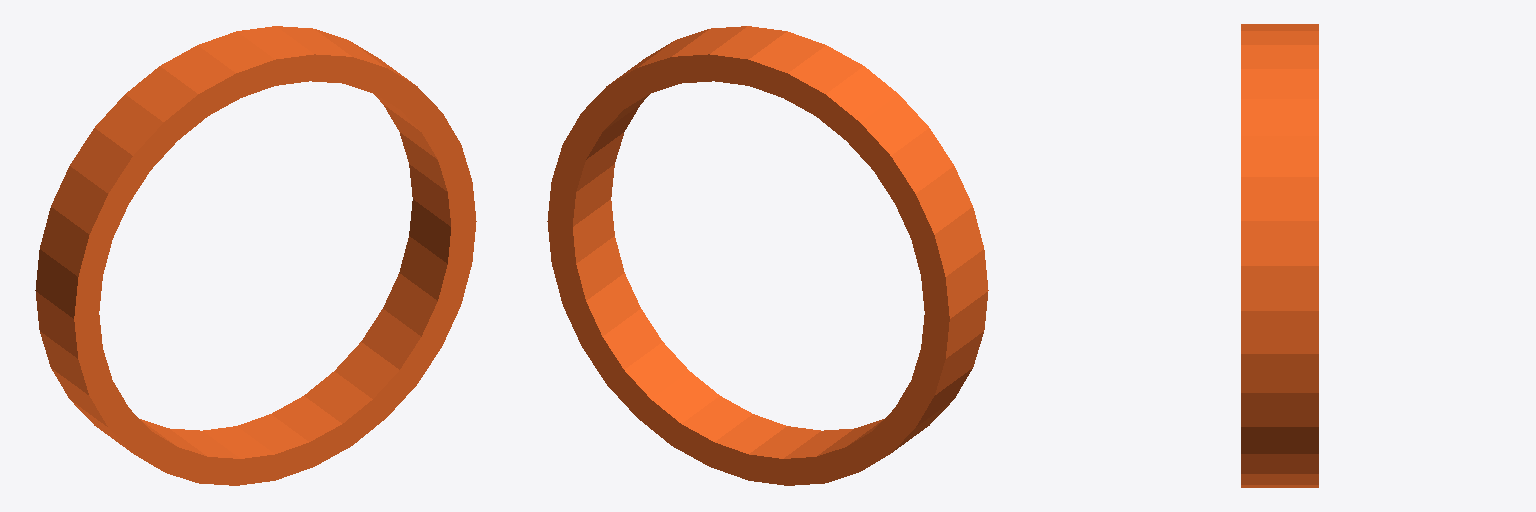
3 views of the same model, side by side, from view 1: azimuth 30°, elevation 25°; view 2: azimuth 150°, elevation 25°; view 3: azimuth 270°, elevation 25° (orthographic).
Parts seen in each view (by area): view 1: 立方体.002; view 2: 立方体.002; view 3: 立方体.002.
Boxes of the visible parts, <box> form: 立方体.002: <box>35,26,476,485</box>; 立方体.002: <box>547,26,988,485</box>; 立方体.002: <box>1241,24,1318,487</box>.
Size of the model in its own units: 6 by 6 by 1.
1 materials, 1 textured.